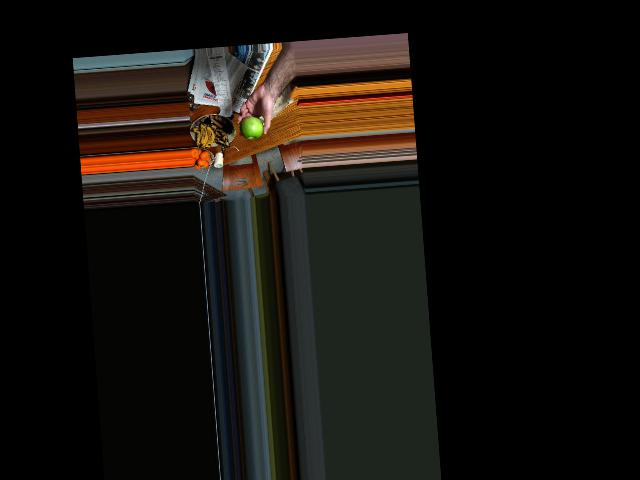apple: (240, 112, 267, 140)
